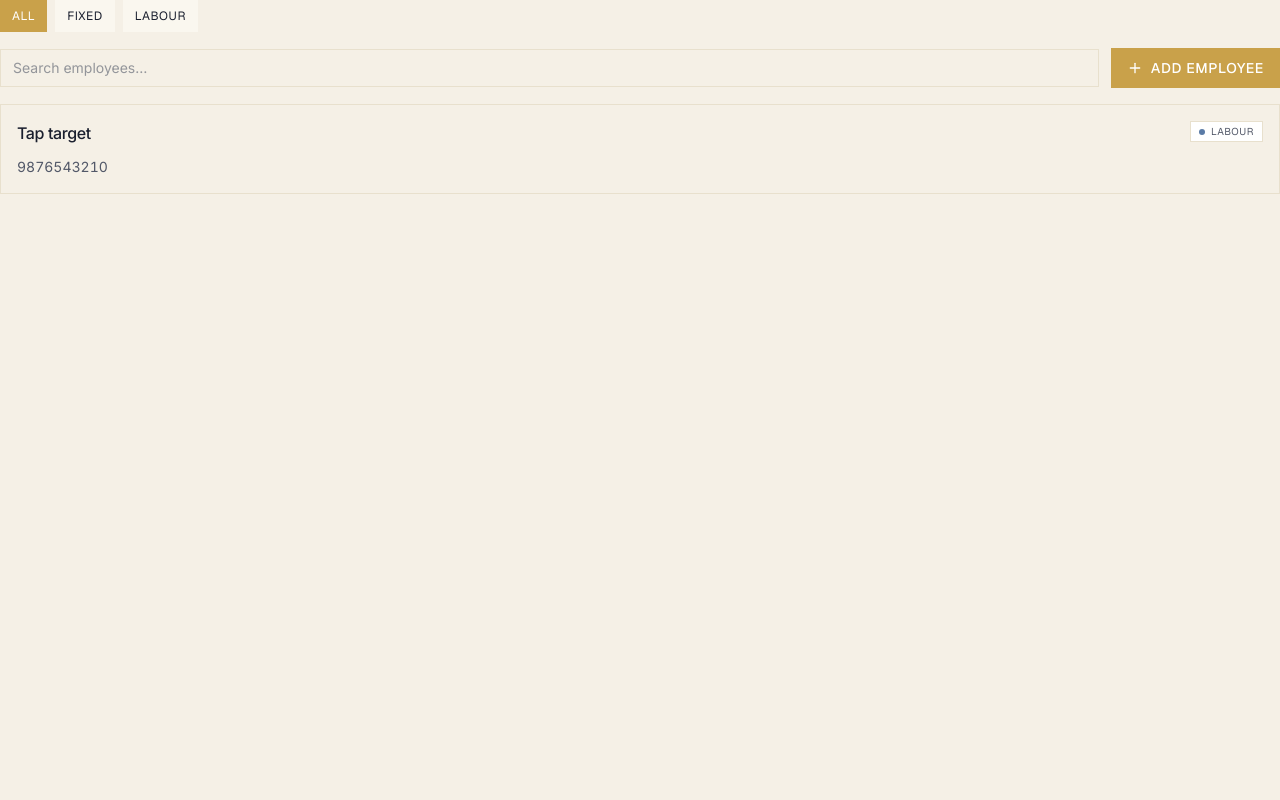
Test: EmployeesTable — mobile viewport › tapping a mobile card opens the detail modal
Click the element with test id "employee-mobile-card-x": (640, 149) x1=0 y1=104 x2=1279 y2=194
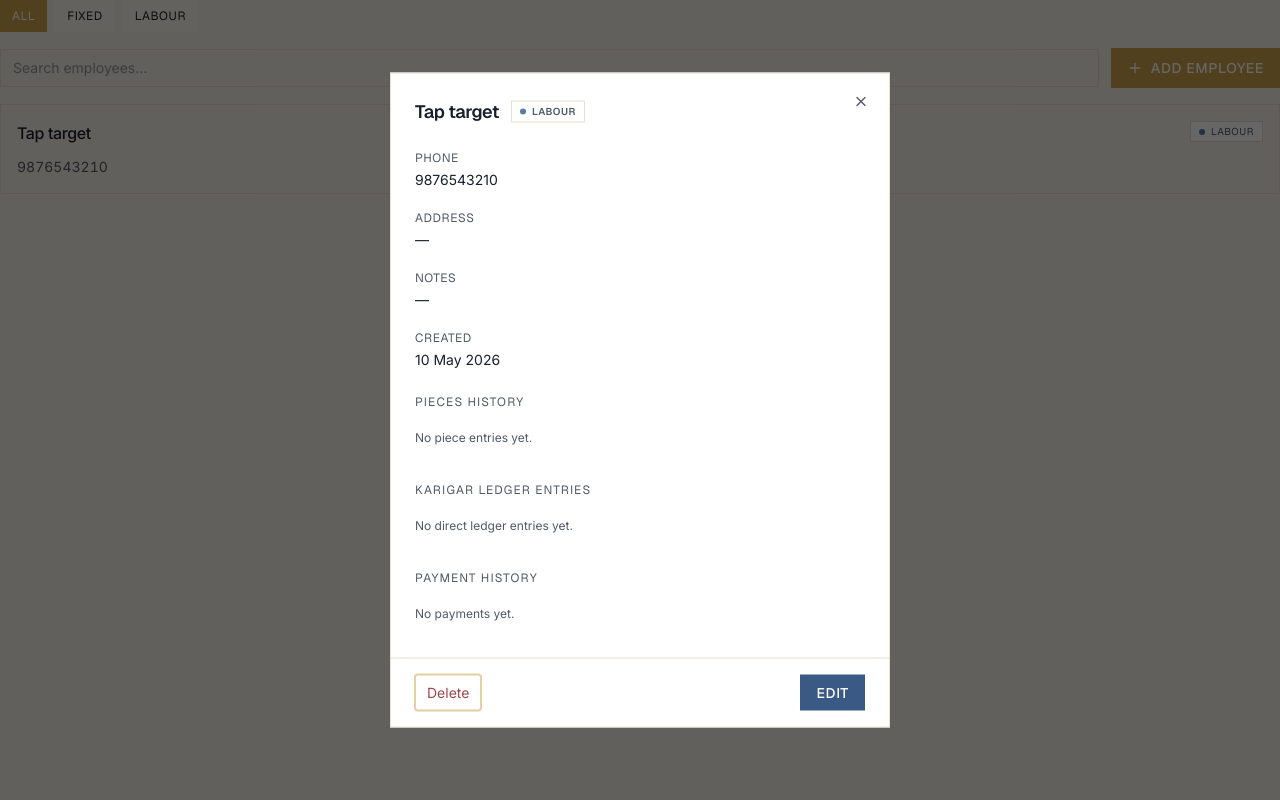
Now the text "Tap target" is shown, box x1=415 y1=98 x2=499 y2=126
